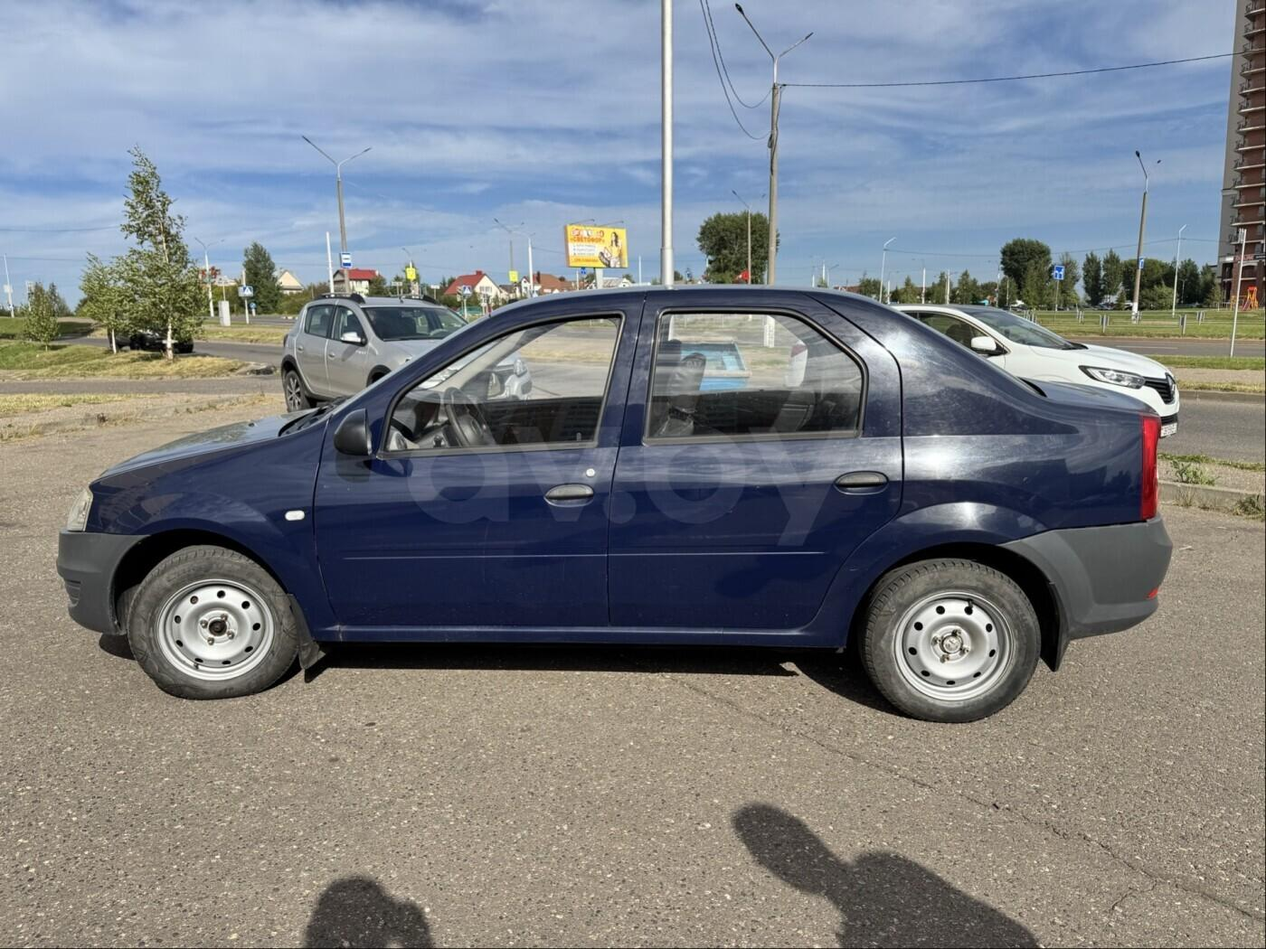Logan_2008-2015: (59, 279, 1178, 732)
